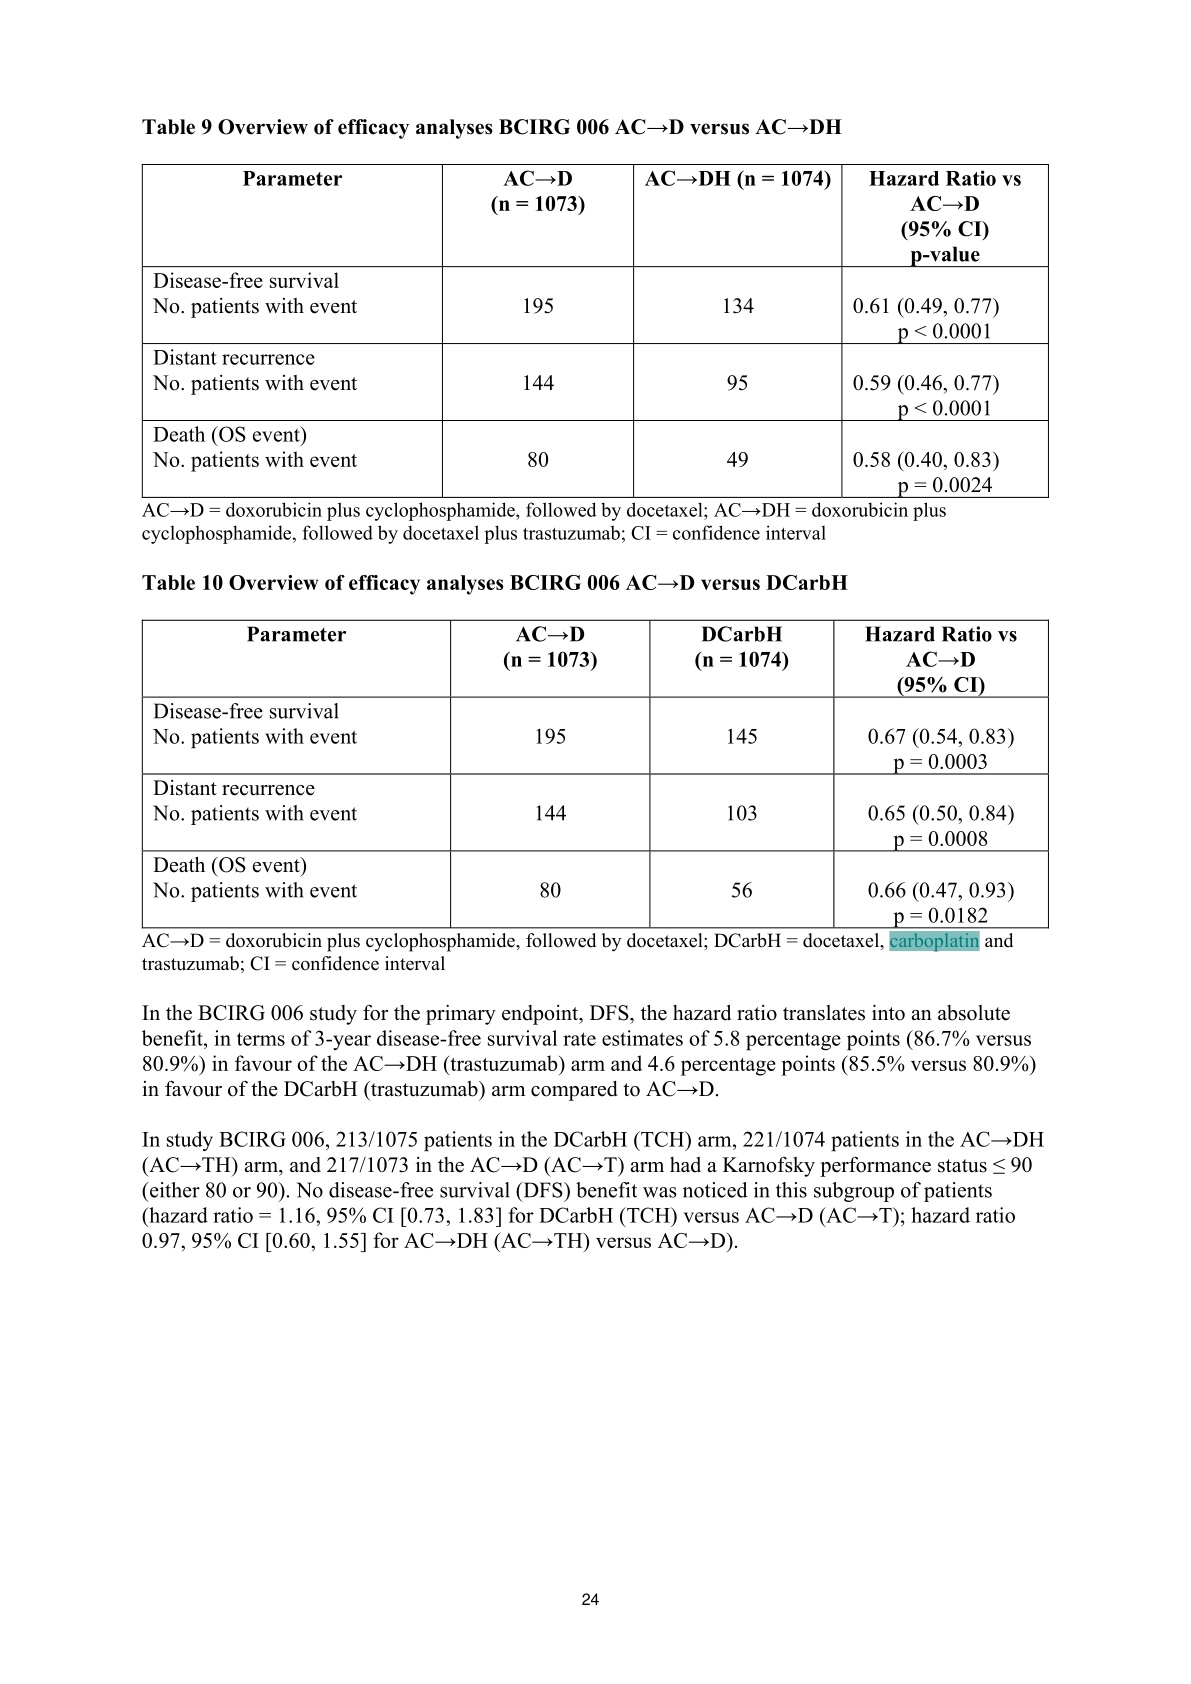full_lined: (140, 164, 1051, 499), (140, 618, 1051, 930)
